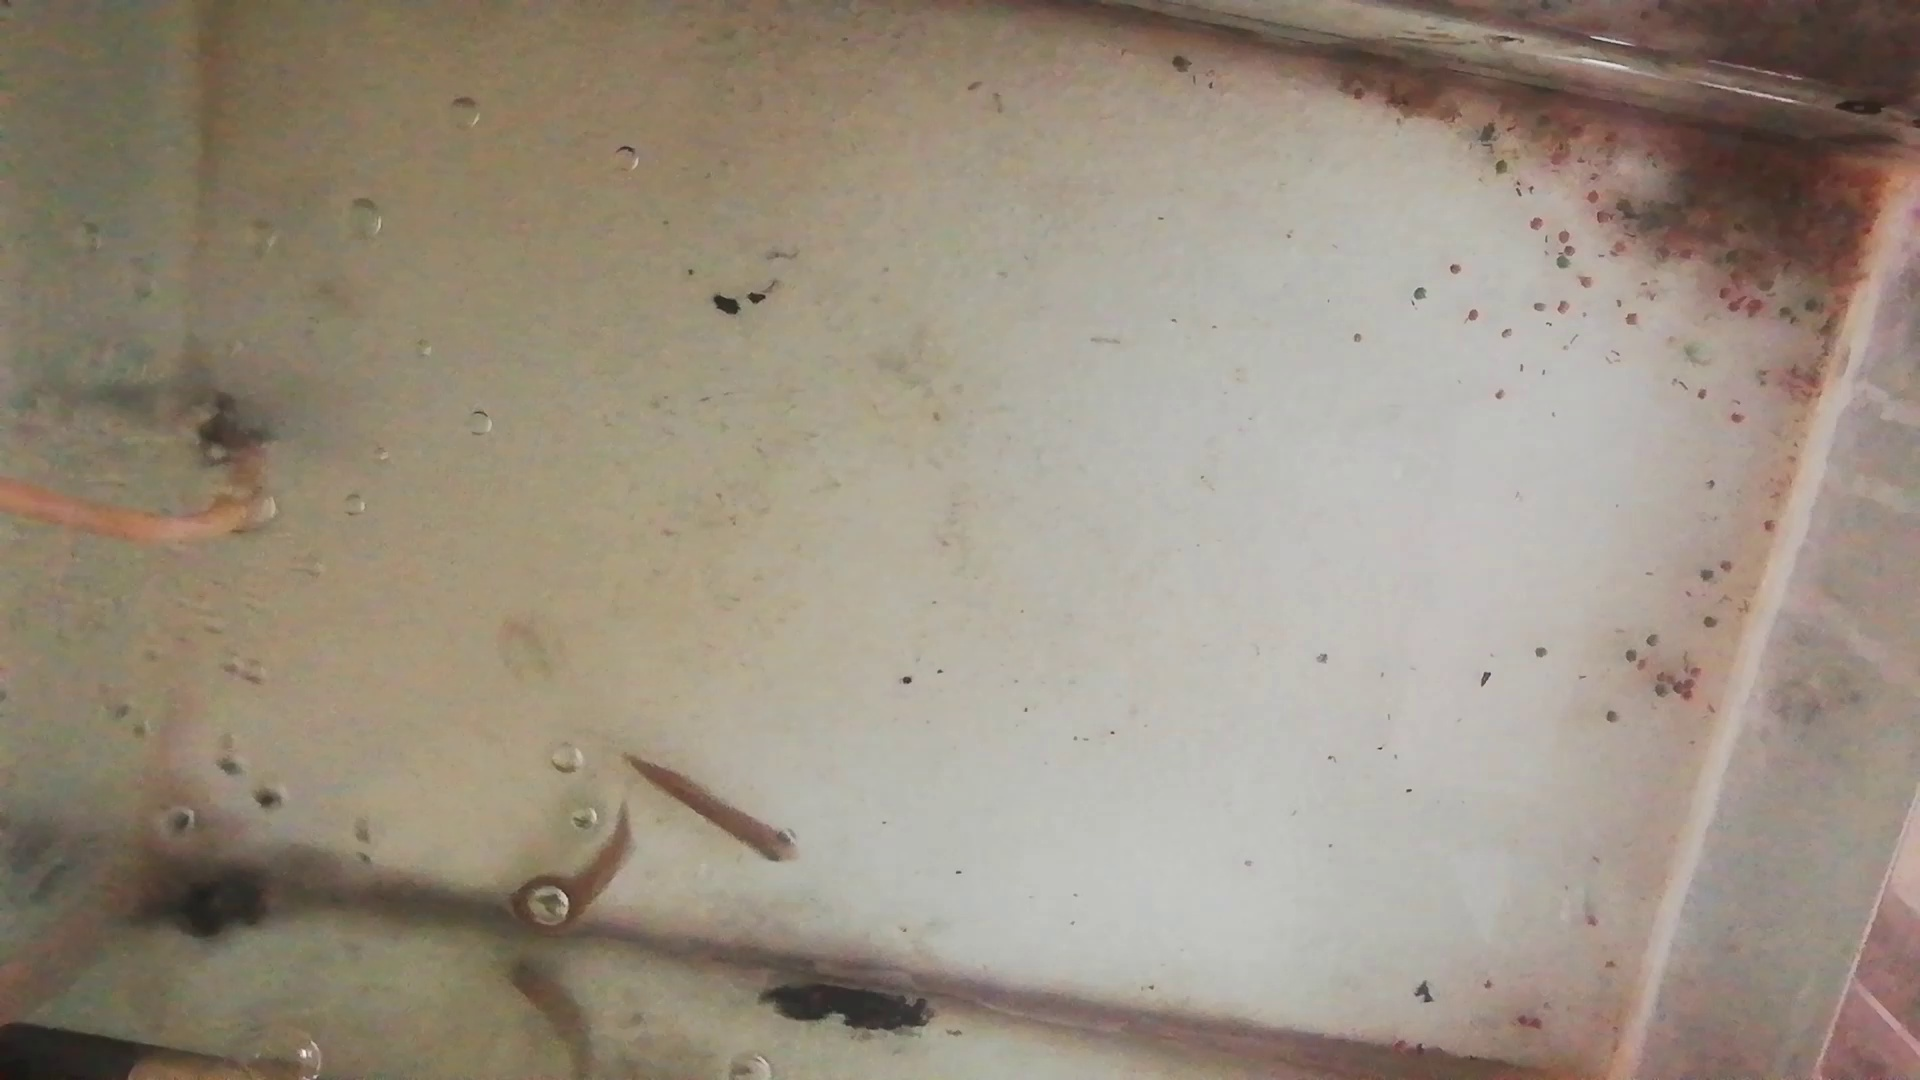fish: (620, 756, 798, 865), (504, 803, 637, 934)
